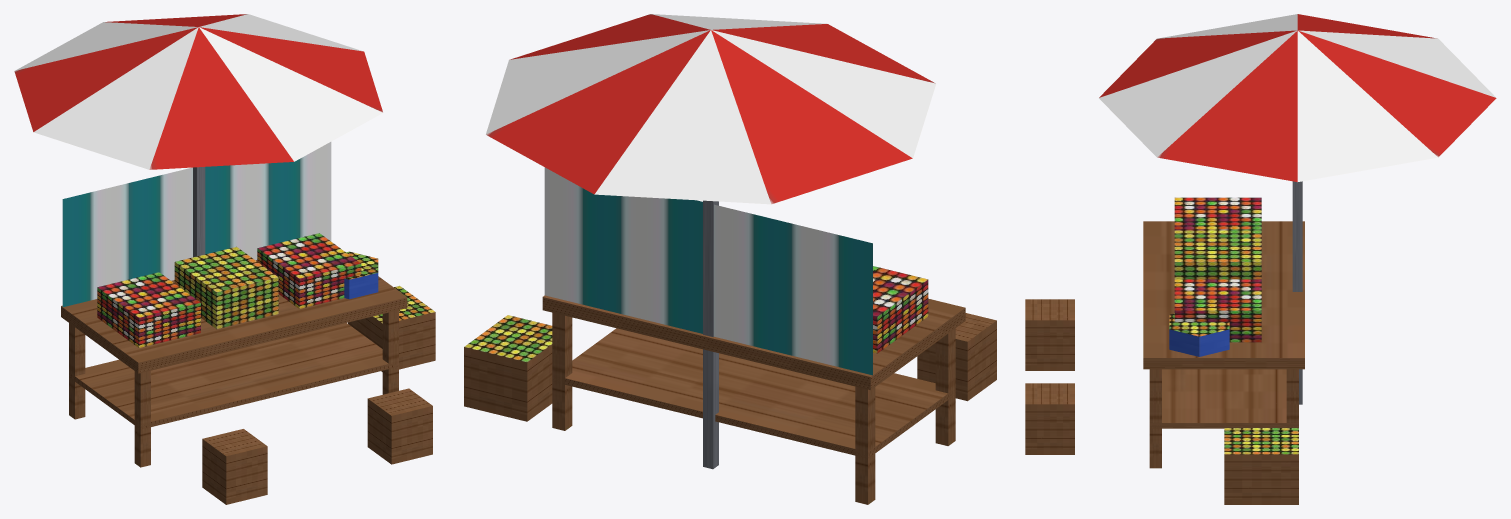
Rendered from stall-teal-far.glb.
The picture shows the model from 3 angles, left to right: view 1: azimuth 30°, elevation 25°; view 2: azimuth 150°, elevation 25°; view 3: azimuth 270°, elevation 25°; orthographic projection. The views are drawn at different scales.
Visible parts, largest first — view 1: stall-teal-far; view 2: stall-teal-far; view 3: stall-teal-far.
Part boxes in pixels (box(x1,y1,x2,y2)): stall-teal-far: box(14, 14, 435, 504); stall-teal-far: box(464, 14, 996, 504); stall-teal-far: box(1025, 14, 1496, 504).
Bounding box in the file's own units: 3.55 × 3.3 × 3.79.
1 material, 1 textured.
